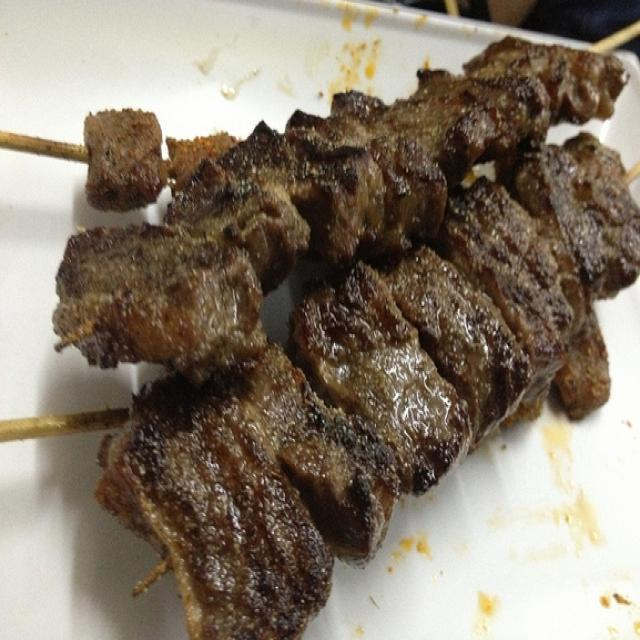烧串烤肉: (18, 34, 629, 605)
